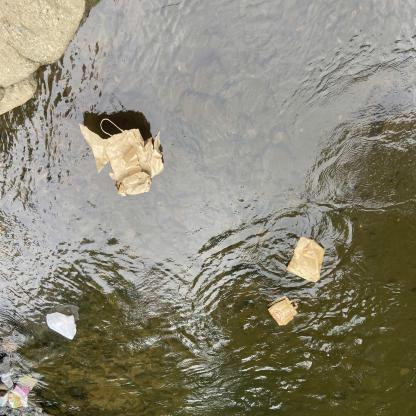Plastic: (44, 309, 78, 342)
Trash: (77, 112, 166, 200), (284, 233, 326, 286), (266, 292, 300, 328)
